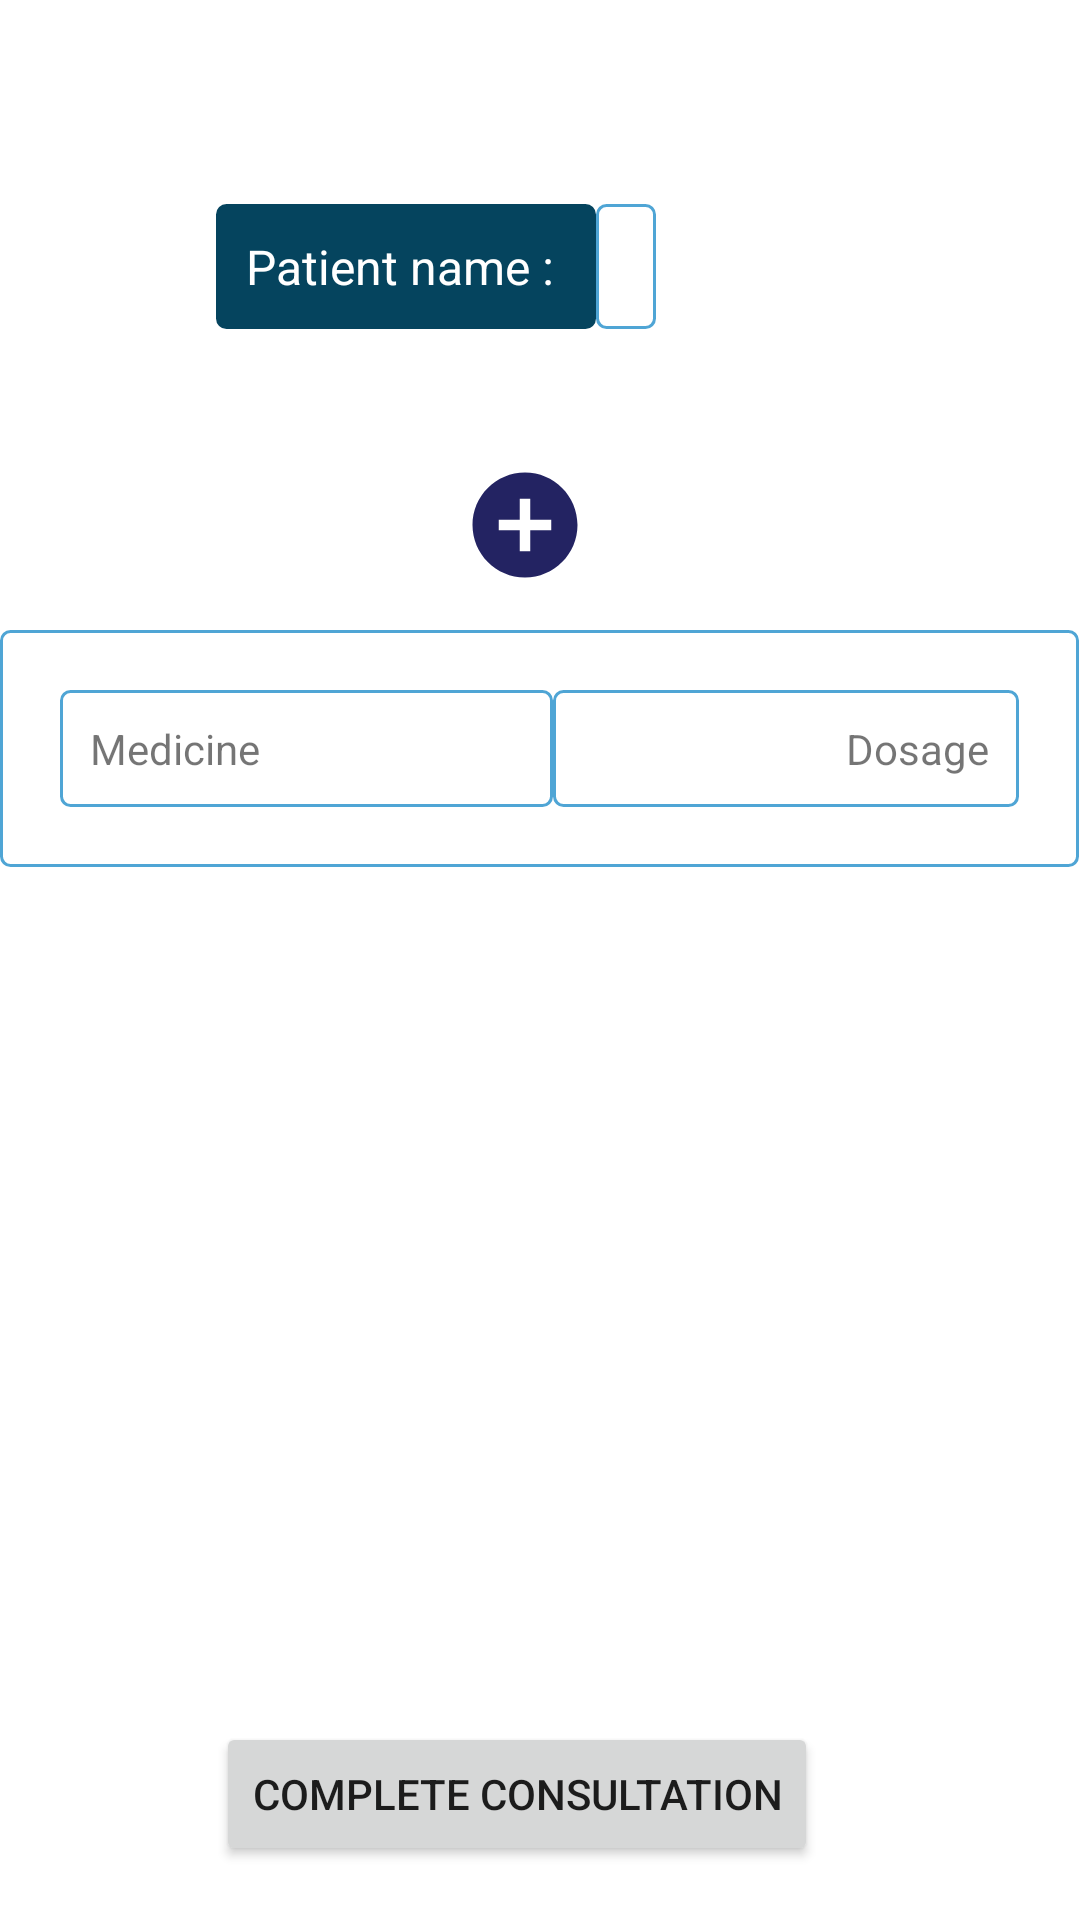

Screen size 1080w x 1920h. Icon name, then its center in pixels as (x=x, y=y):
add circle: (x=525, y=525)
